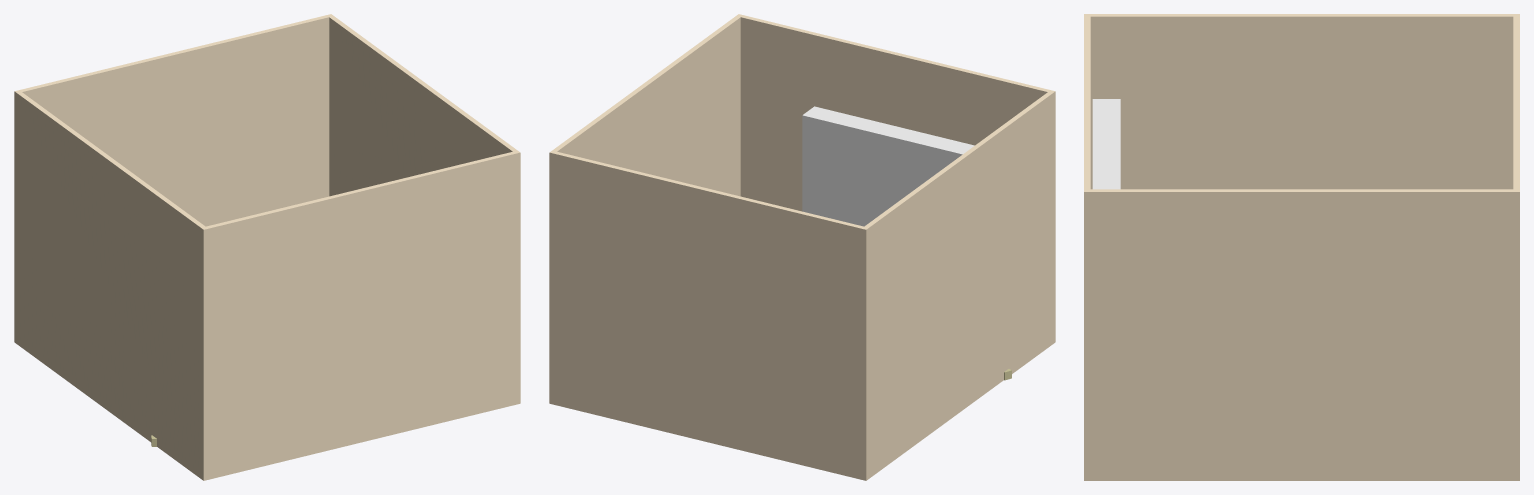
The model's file is simple_my_room.dae.
The picture shows the model from 3 angles, left to right: view 1: azimuth 30°, elevation 25°; view 2: azimuth 150°, elevation 25°; view 3: azimuth 270°, elevation 25°; orthographic projection. The views are drawn at different scales.
Parts seen in each view (by area): view 1: node0; view 2: node0, node6; view 3: node0, node6.
Part boxes in pixels (x1,y1,x2,y2): node0: (14,14,520,480); node0: (549,14,1055,480); node6: (802,106,974,226); node0: (1084,14,1519,480); node6: (1092,99,1120,189).
Size of the model in its own units: 3.34 by 3.42 by 2.5.
